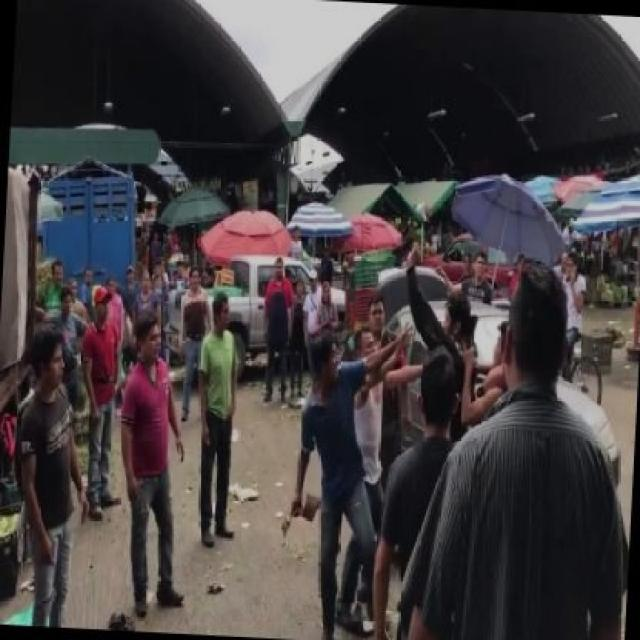non-fight: (398, 255, 638, 639), (100, 300, 203, 625), (2, 325, 103, 632)
